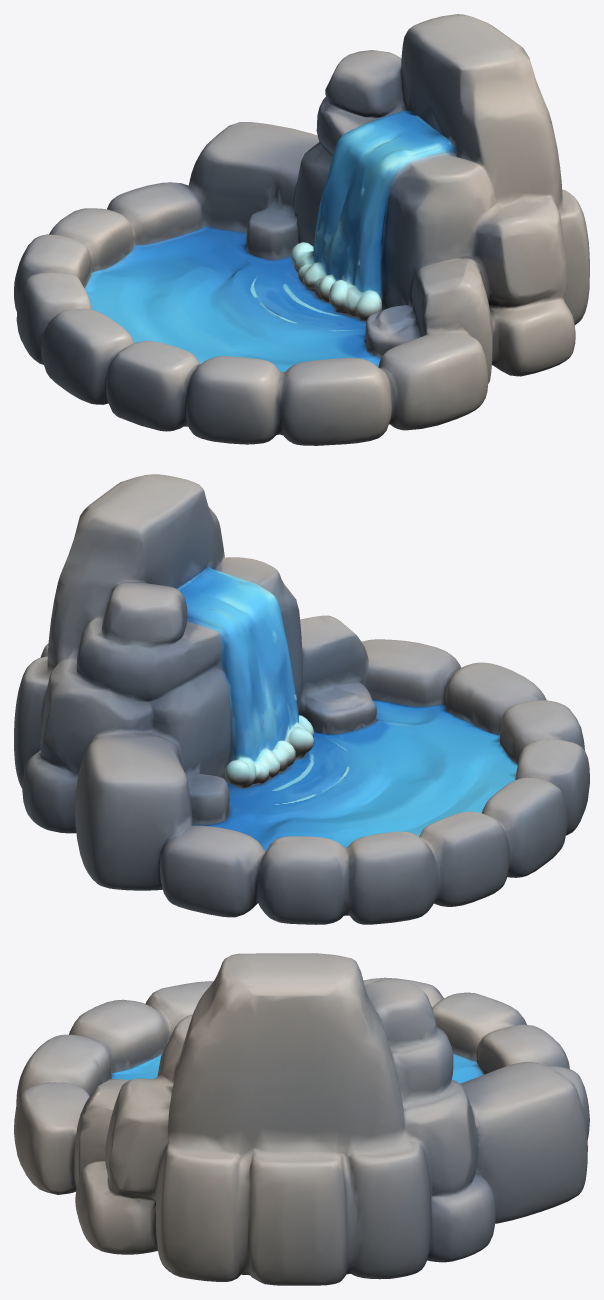
The model's file is pond-waterfall.glb.
3 renders of one model, top to bottom at view 1: azimuth 30°, elevation 25°; view 2: azimuth 150°, elevation 25°; view 3: azimuth 270°, elevation 25°, orthographic. The views are drawn at different scales.
Visible parts, largest first — view 1: tripo_node_da341b89-f8ec-4e0c-94ad-5e4b5a0b2cfd; view 2: tripo_node_da341b89-f8ec-4e0c-94ad-5e4b5a0b2cfd; view 3: tripo_node_da341b89-f8ec-4e0c-94ad-5e4b5a0b2cfd.
Part boxes in pixels (x1,y1,x2,y2): tripo_node_da341b89-f8ec-4e0c-94ad-5e4b5a0b2cfd: (14, 14, 589, 445); tripo_node_da341b89-f8ec-4e0c-94ad-5e4b5a0b2cfd: (14, 474, 589, 924); tripo_node_da341b89-f8ec-4e0c-94ad-5e4b5a0b2cfd: (14, 953, 589, 1285).
Bounding box in the file's own units: 0.9999 × 0.5168 × 0.9467.
Materials: 1 (1 with a texture image).
